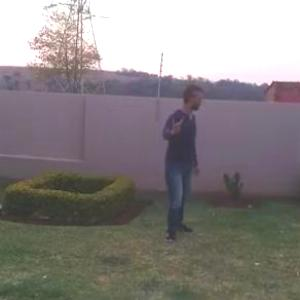takeoff-hand: (161, 114, 187, 142)
